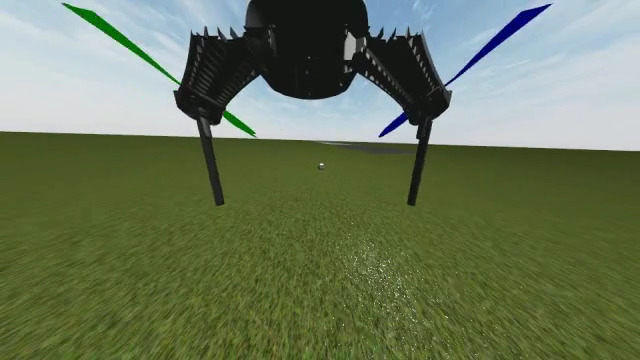Car: (318, 163, 326, 171)
